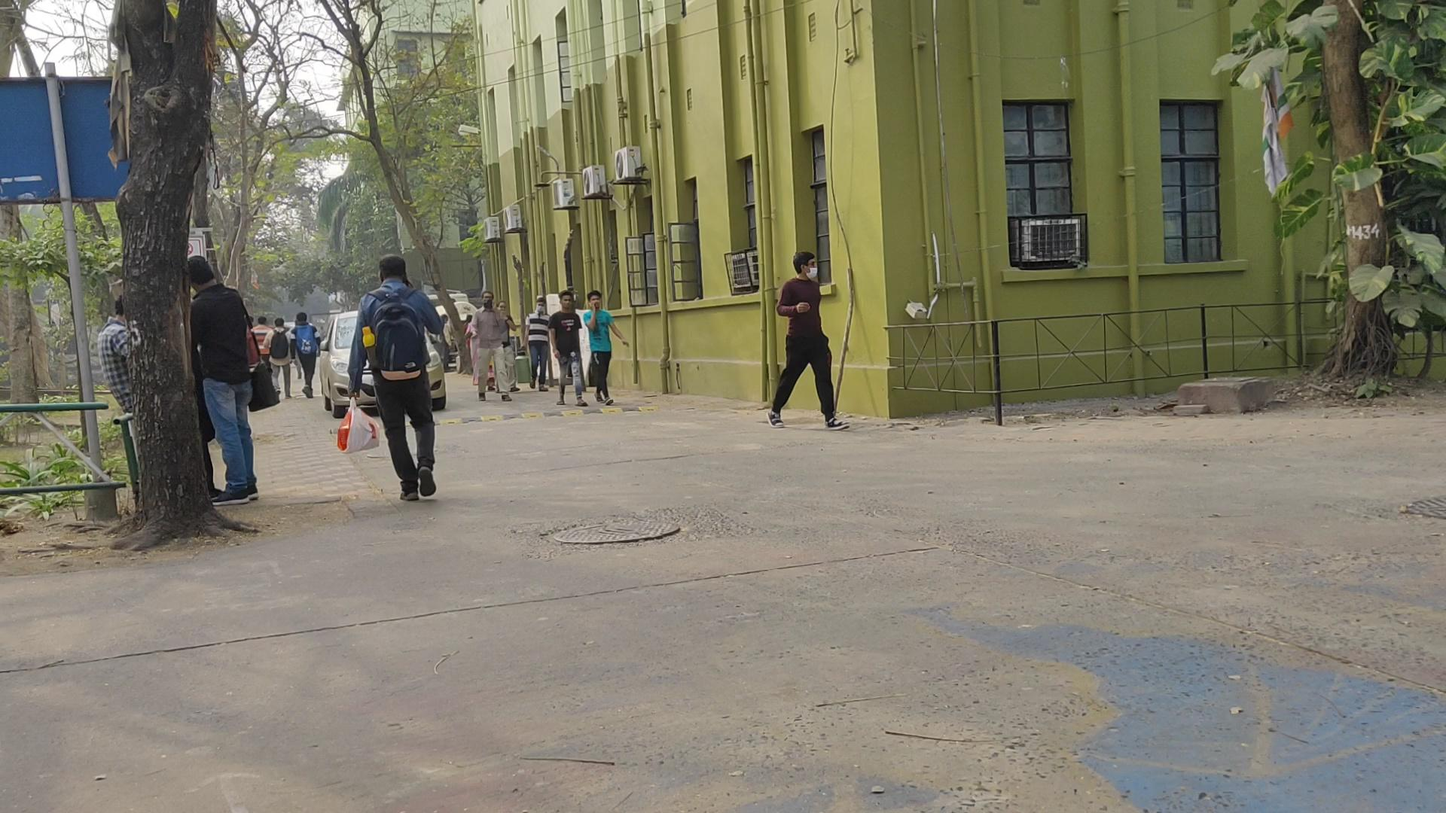car: (319, 308, 447, 418)
